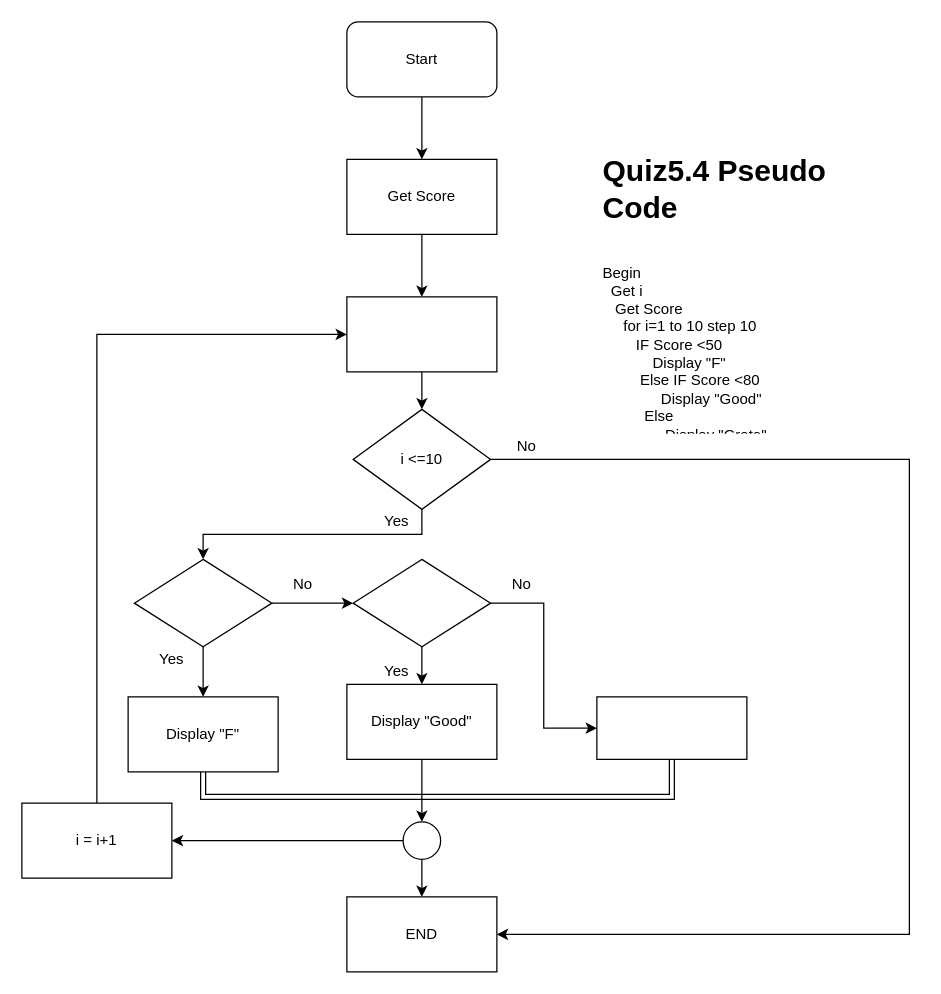
Image size: 941x994. Some labels were removed from this diagram. Each missing label, with the centre of its shape:
Display "Great": (671,727)
i =0: (421,334)
Score < 50: (202,602)
Score <80: (421,602)
